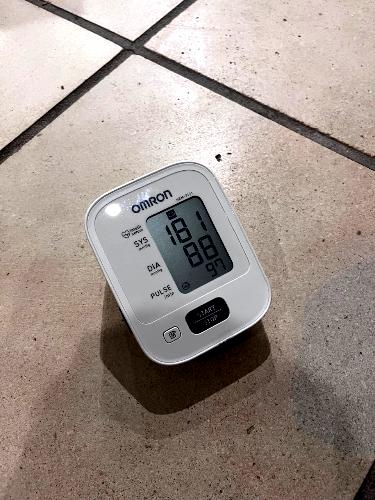bpm: (143, 190, 238, 296)
